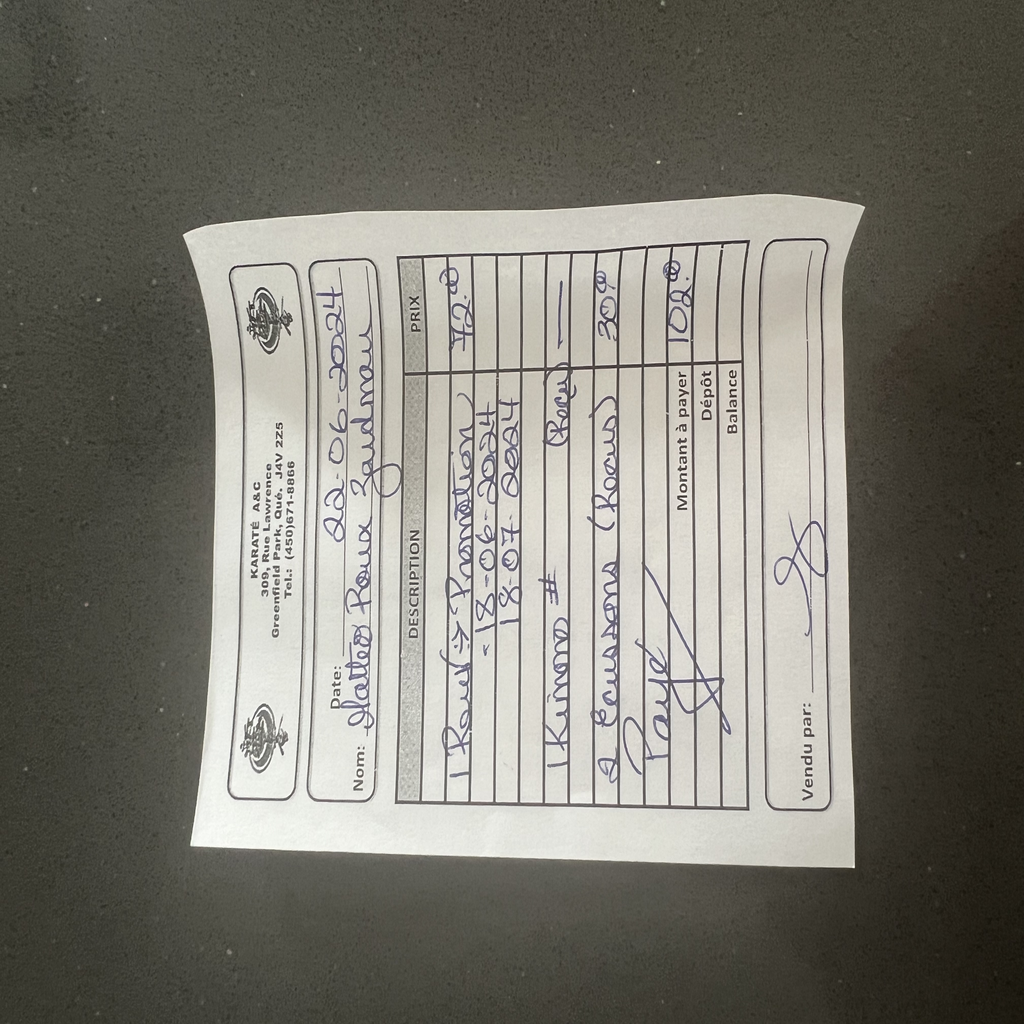recipt: (176, 193, 865, 865)
